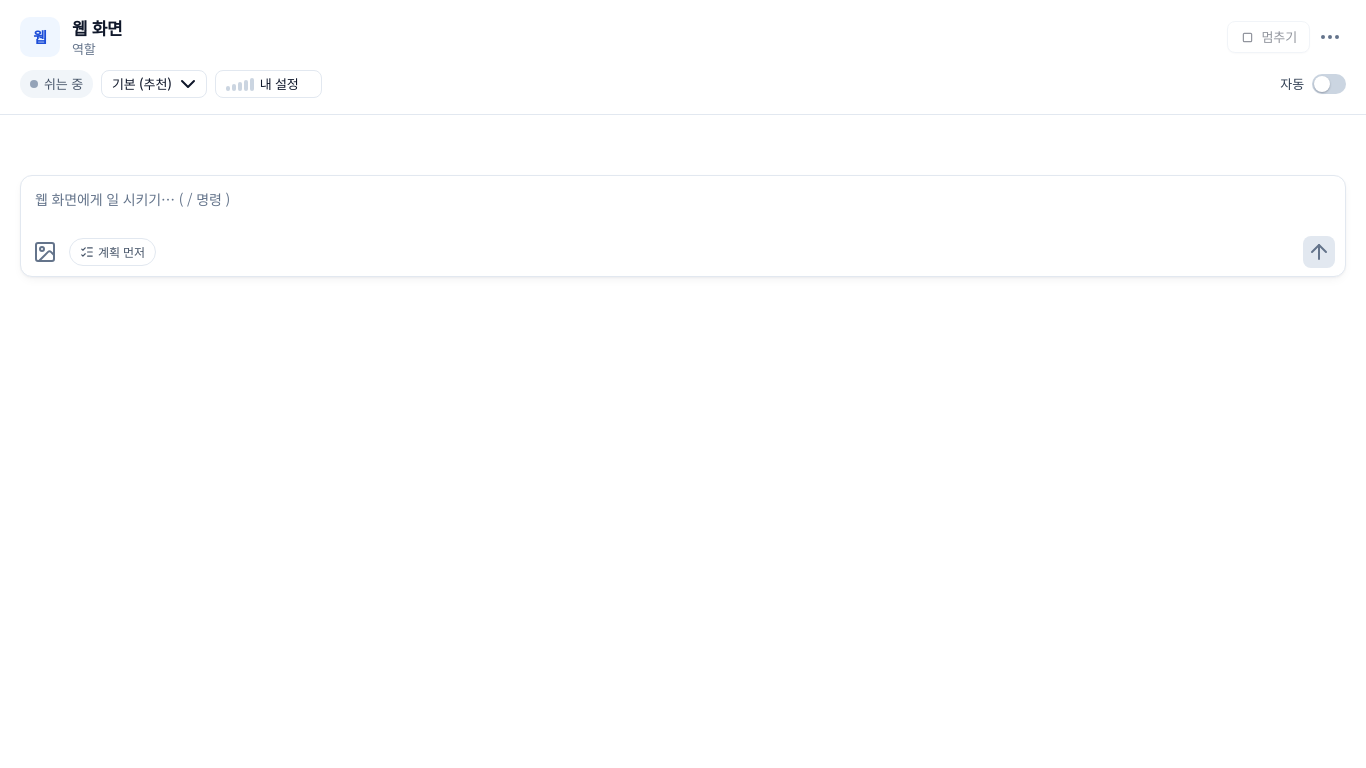
AlwaysAllowDialog › 맨 끝 줄을 되돌리면 초점은 앞 줄로 · 실패하면 그 줄의 되돌리기로 돌아오고 문구
Click the button named "메뉴" at [1330, 37], box [1314, 21, 1346, 53]
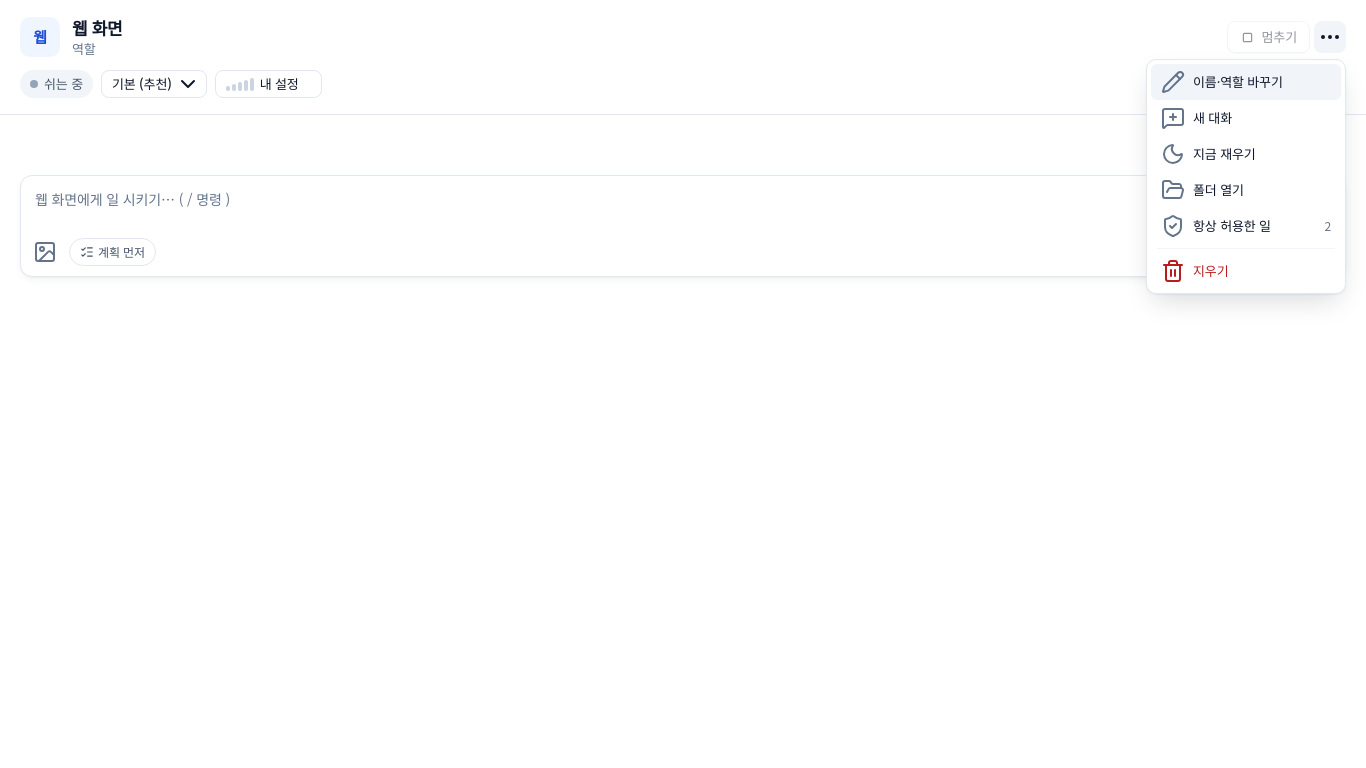
Click the menu item "항상 허용한 일 2" at [1246, 226], box [1151, 208, 1341, 244]
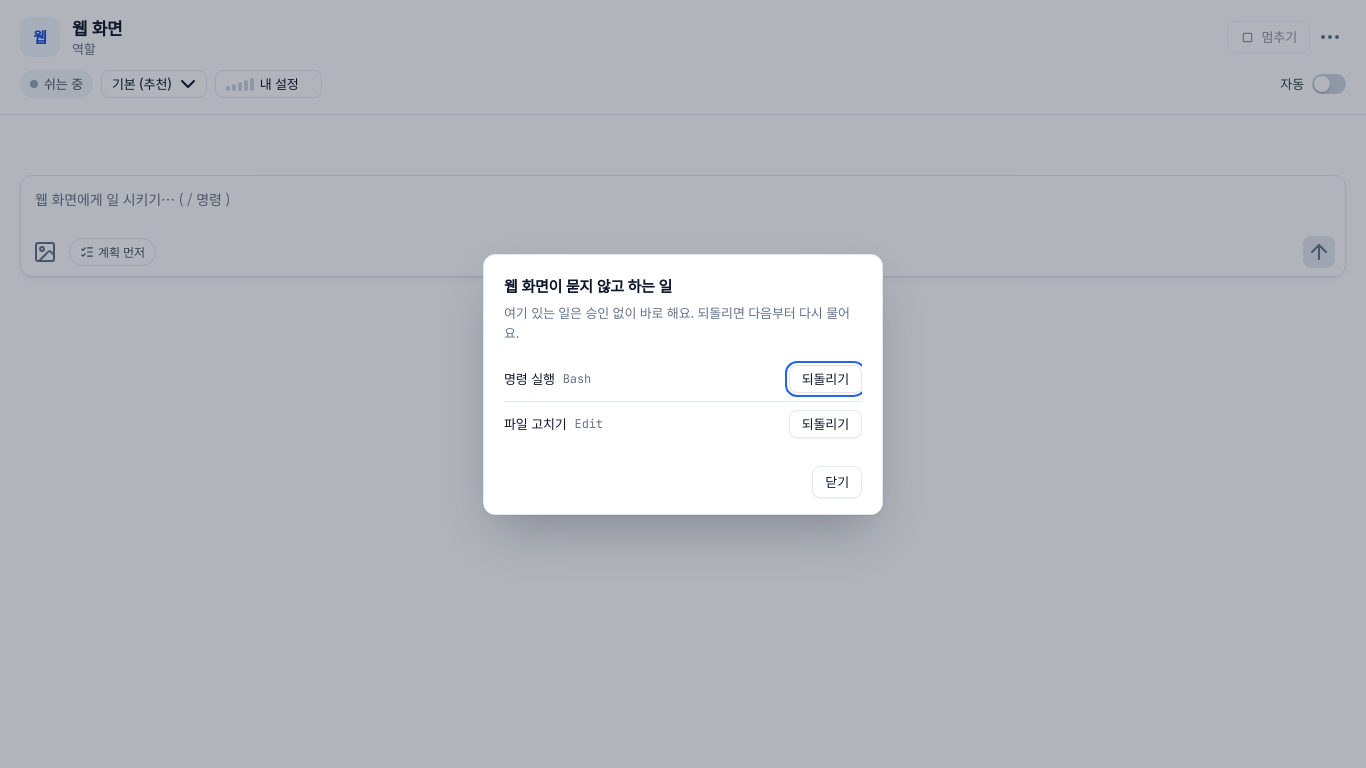
Click the button "되돌리기" in the row of "파일 고치기" at [825, 424], box [789, 410, 862, 438]
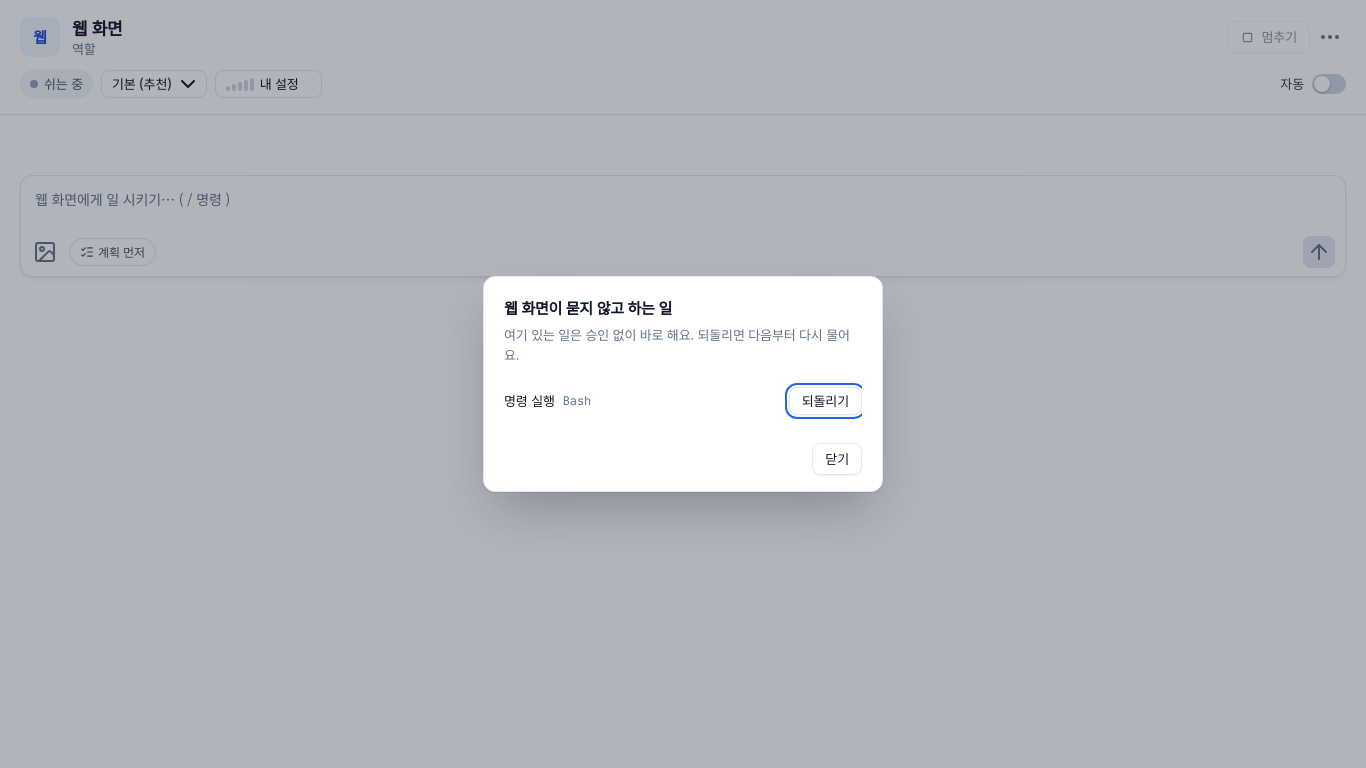
Click the button "되돌리기" at [825, 401], box [789, 387, 862, 415]
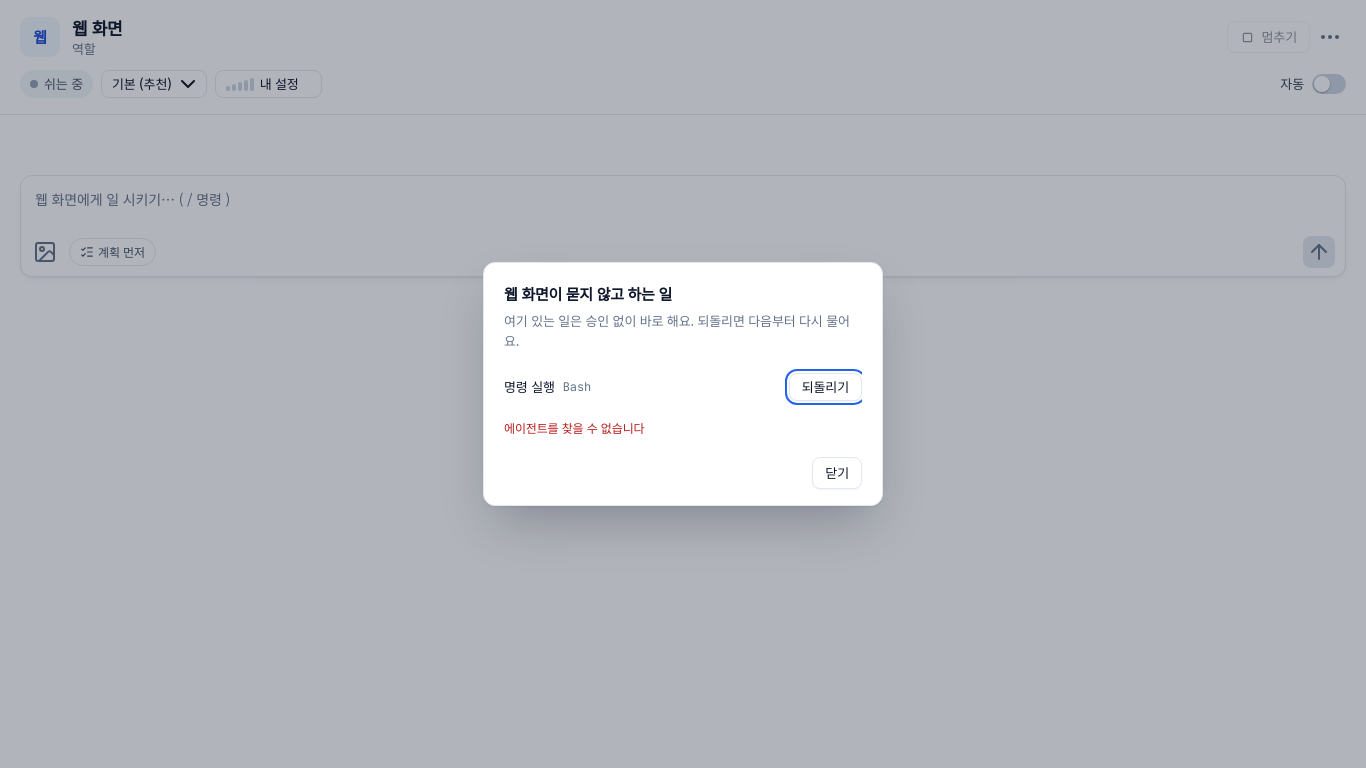
Now the dialog shows "에이전트를 찾을 수 없습니다", box [504, 419, 644, 436]
